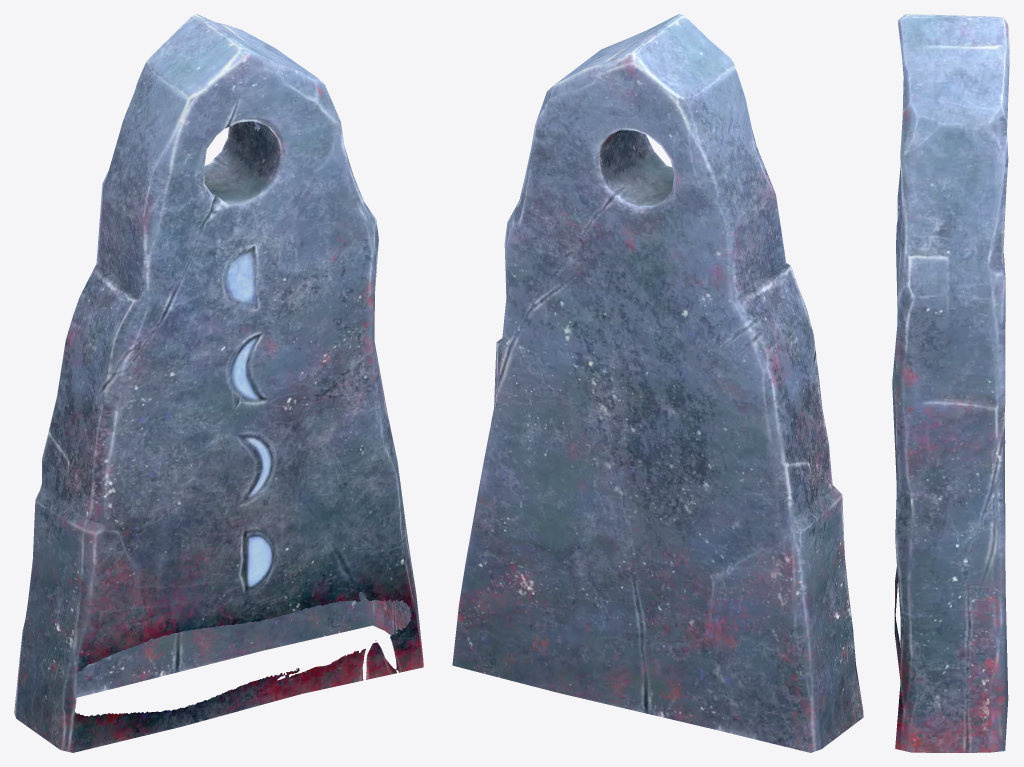
3 views of the same model, side by side, from view 1: azimuth 30°, elevation 25°; view 2: azimuth 150°, elevation 25°; view 3: azimuth 270°, elevation 25° (orthographic).
Visible parts, largest first — view 1: SM_Lougrims_Shrine_02_LOD0; view 2: SM_Lougrims_Shrine_02_LOD0; view 3: SM_Lougrims_Shrine_02_LOD0.
Part boxes in pixels (left/top/right/bottom): SM_Lougrims_Shrine_02_LOD0: left=14, top=14, right=423, bottom=752; SM_Lougrims_Shrine_02_LOD0: left=452, top=14, right=863, bottom=752; SM_Lougrims_Shrine_02_LOD0: left=892, top=14, right=1009, bottom=752.
Bounding box in the file's own units: 3.84 × 6.58 × 1.08.
Materials: 1 (1 with a texture image).
